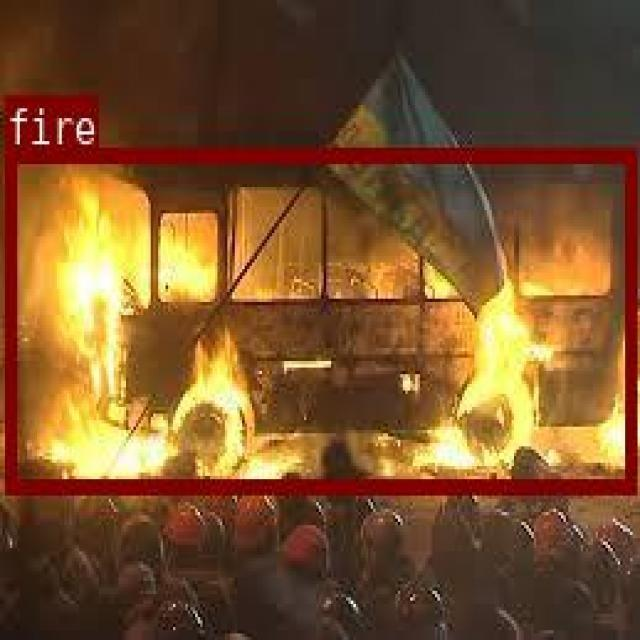fire: (4, 146, 634, 490)
